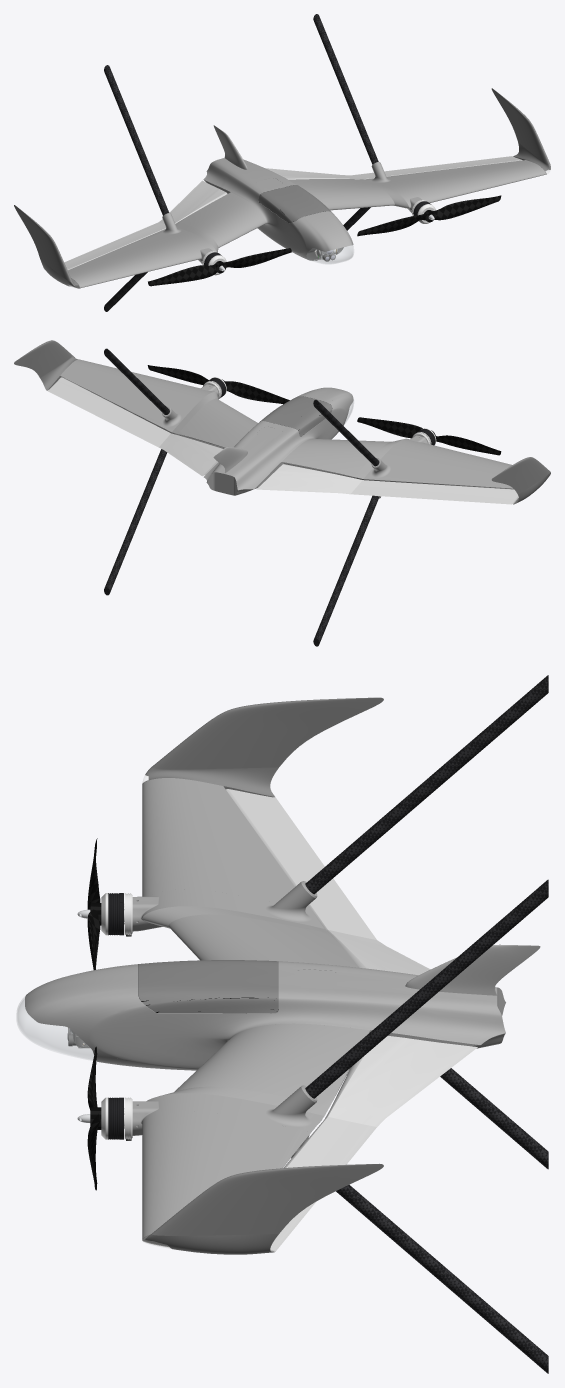
File: T_Bat_Updated.glb
The picture shows the model from 3 angles, top to bottom: view 1: azimuth 30°, elevation 25°; view 2: azimuth 150°, elevation 25°; view 3: azimuth 270°, elevation 25°; orthographic projection. The views are drawn at different scales.
Parts seen in each view (by area): view 1: Fuselage_V7_R10-GLTF-1, Battery_Old_Original, Propeller APC - 15 x 10 E - Addere Creations-GLTF-2, Propeller APC - 15 x 10 E - Addere Creations-GLTF-1; view 2: Fuselage_V7_R10-GLTF-1, Battery_Old_Original, Propeller APC - 15 x 10 E - Addere Creations-GLTF-1, Propeller APC - 15 x 10 E - Addere Creations-GLTF-2; view 3: Fuselage_V7_R10-GLTF-1, Battery_Old_Original, Motor_KDE4215-GLTF-2, Motor_KDE4215-GLTF-1, Propeller APC - 15 x 10 E - Addere Creations-GLTF-1, Propeller APC - 15 x 10 E - Addere Creations-GLTF-2.
Part boxes in pixels (x1,y1,x2,y2): Fuselage_V7_R10-GLTF-1: (14, 14, 550, 311); Battery_Old_Original: (258, 185, 331, 223); Propeller APC - 15 x 10 E - Addere Creations-GLTF-2: (357, 195, 501, 236); Propeller APC - 15 x 10 E - Addere Creations-GLTF-1: (148, 248, 291, 286); Fuselage_V7_R10-GLTF-1: (14, 340, 550, 646); Battery_Old_Original: (260, 396, 332, 436); Propeller APC - 15 x 10 E - Addere Creations-GLTF-1: (357, 417, 501, 455); Propeller APC - 15 x 10 E - Addere Creations-GLTF-2: (147, 365, 289, 404); Fuselage_V7_R10-GLTF-1: (16, 675, 548, 1373); Battery_Old_Original: (139, 960, 278, 1013); Motor_KDE4215-GLTF-2: (101, 1097, 132, 1140); Motor_KDE4215-GLTF-1: (101, 893, 132, 936); Propeller APC - 15 x 10 E - Addere Creations-GLTF-1: (87, 838, 101, 969); Propeller APC - 15 x 10 E - Addere Creations-GLTF-2: (87, 1046, 101, 1190).
Size of the model in its own units: 1.27 by 0.6226 by 0.6086.
Materials: 33 (4 with a texture image).
